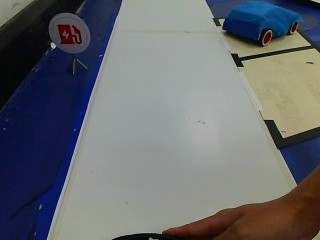battery: (42, 13, 89, 55)
car: (220, 0, 298, 49)
